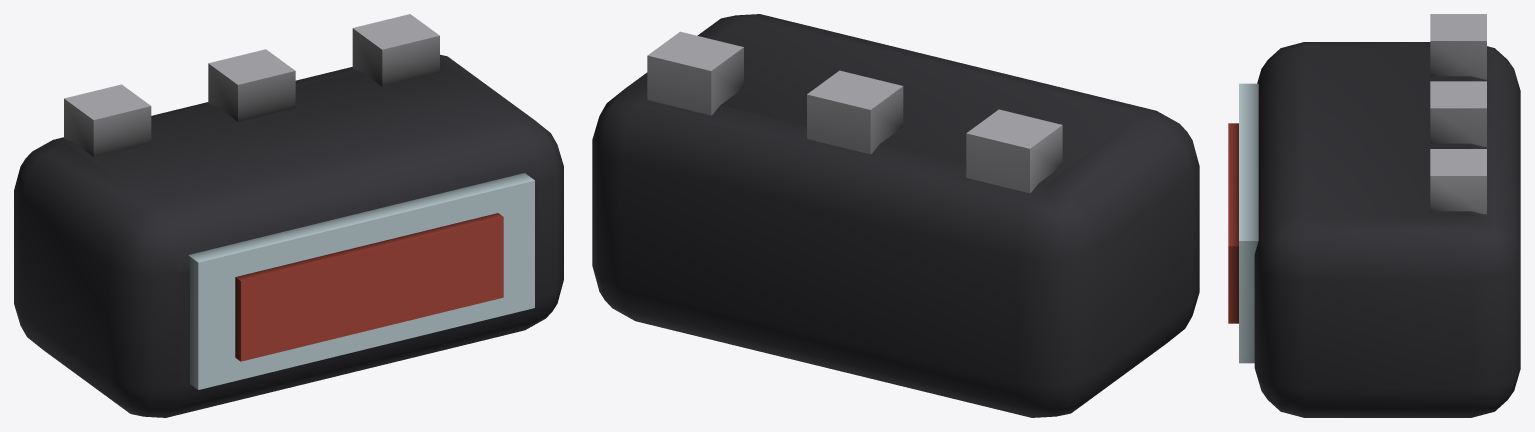
The model's file is alarm_clock.glb.
3 renders of one model, left to right at view 1: azimuth 30°, elevation 25°; view 2: azimuth 150°, elevation 25°; view 3: azimuth 270°, elevation 25°, orthographic. The views are drawn at different scales.
Visible parts, largest first — view 1: alarm_clock; view 2: alarm_clock; view 3: alarm_clock.
Boxes of the visible parts, x1,y1,x2,y2 form: alarm_clock: (14, 14, 563, 417); alarm_clock: (592, 14, 1199, 417); alarm_clock: (1228, 14, 1520, 417).
Size of the model in its own units: 0.14 by 0.073 by 0.0825.
